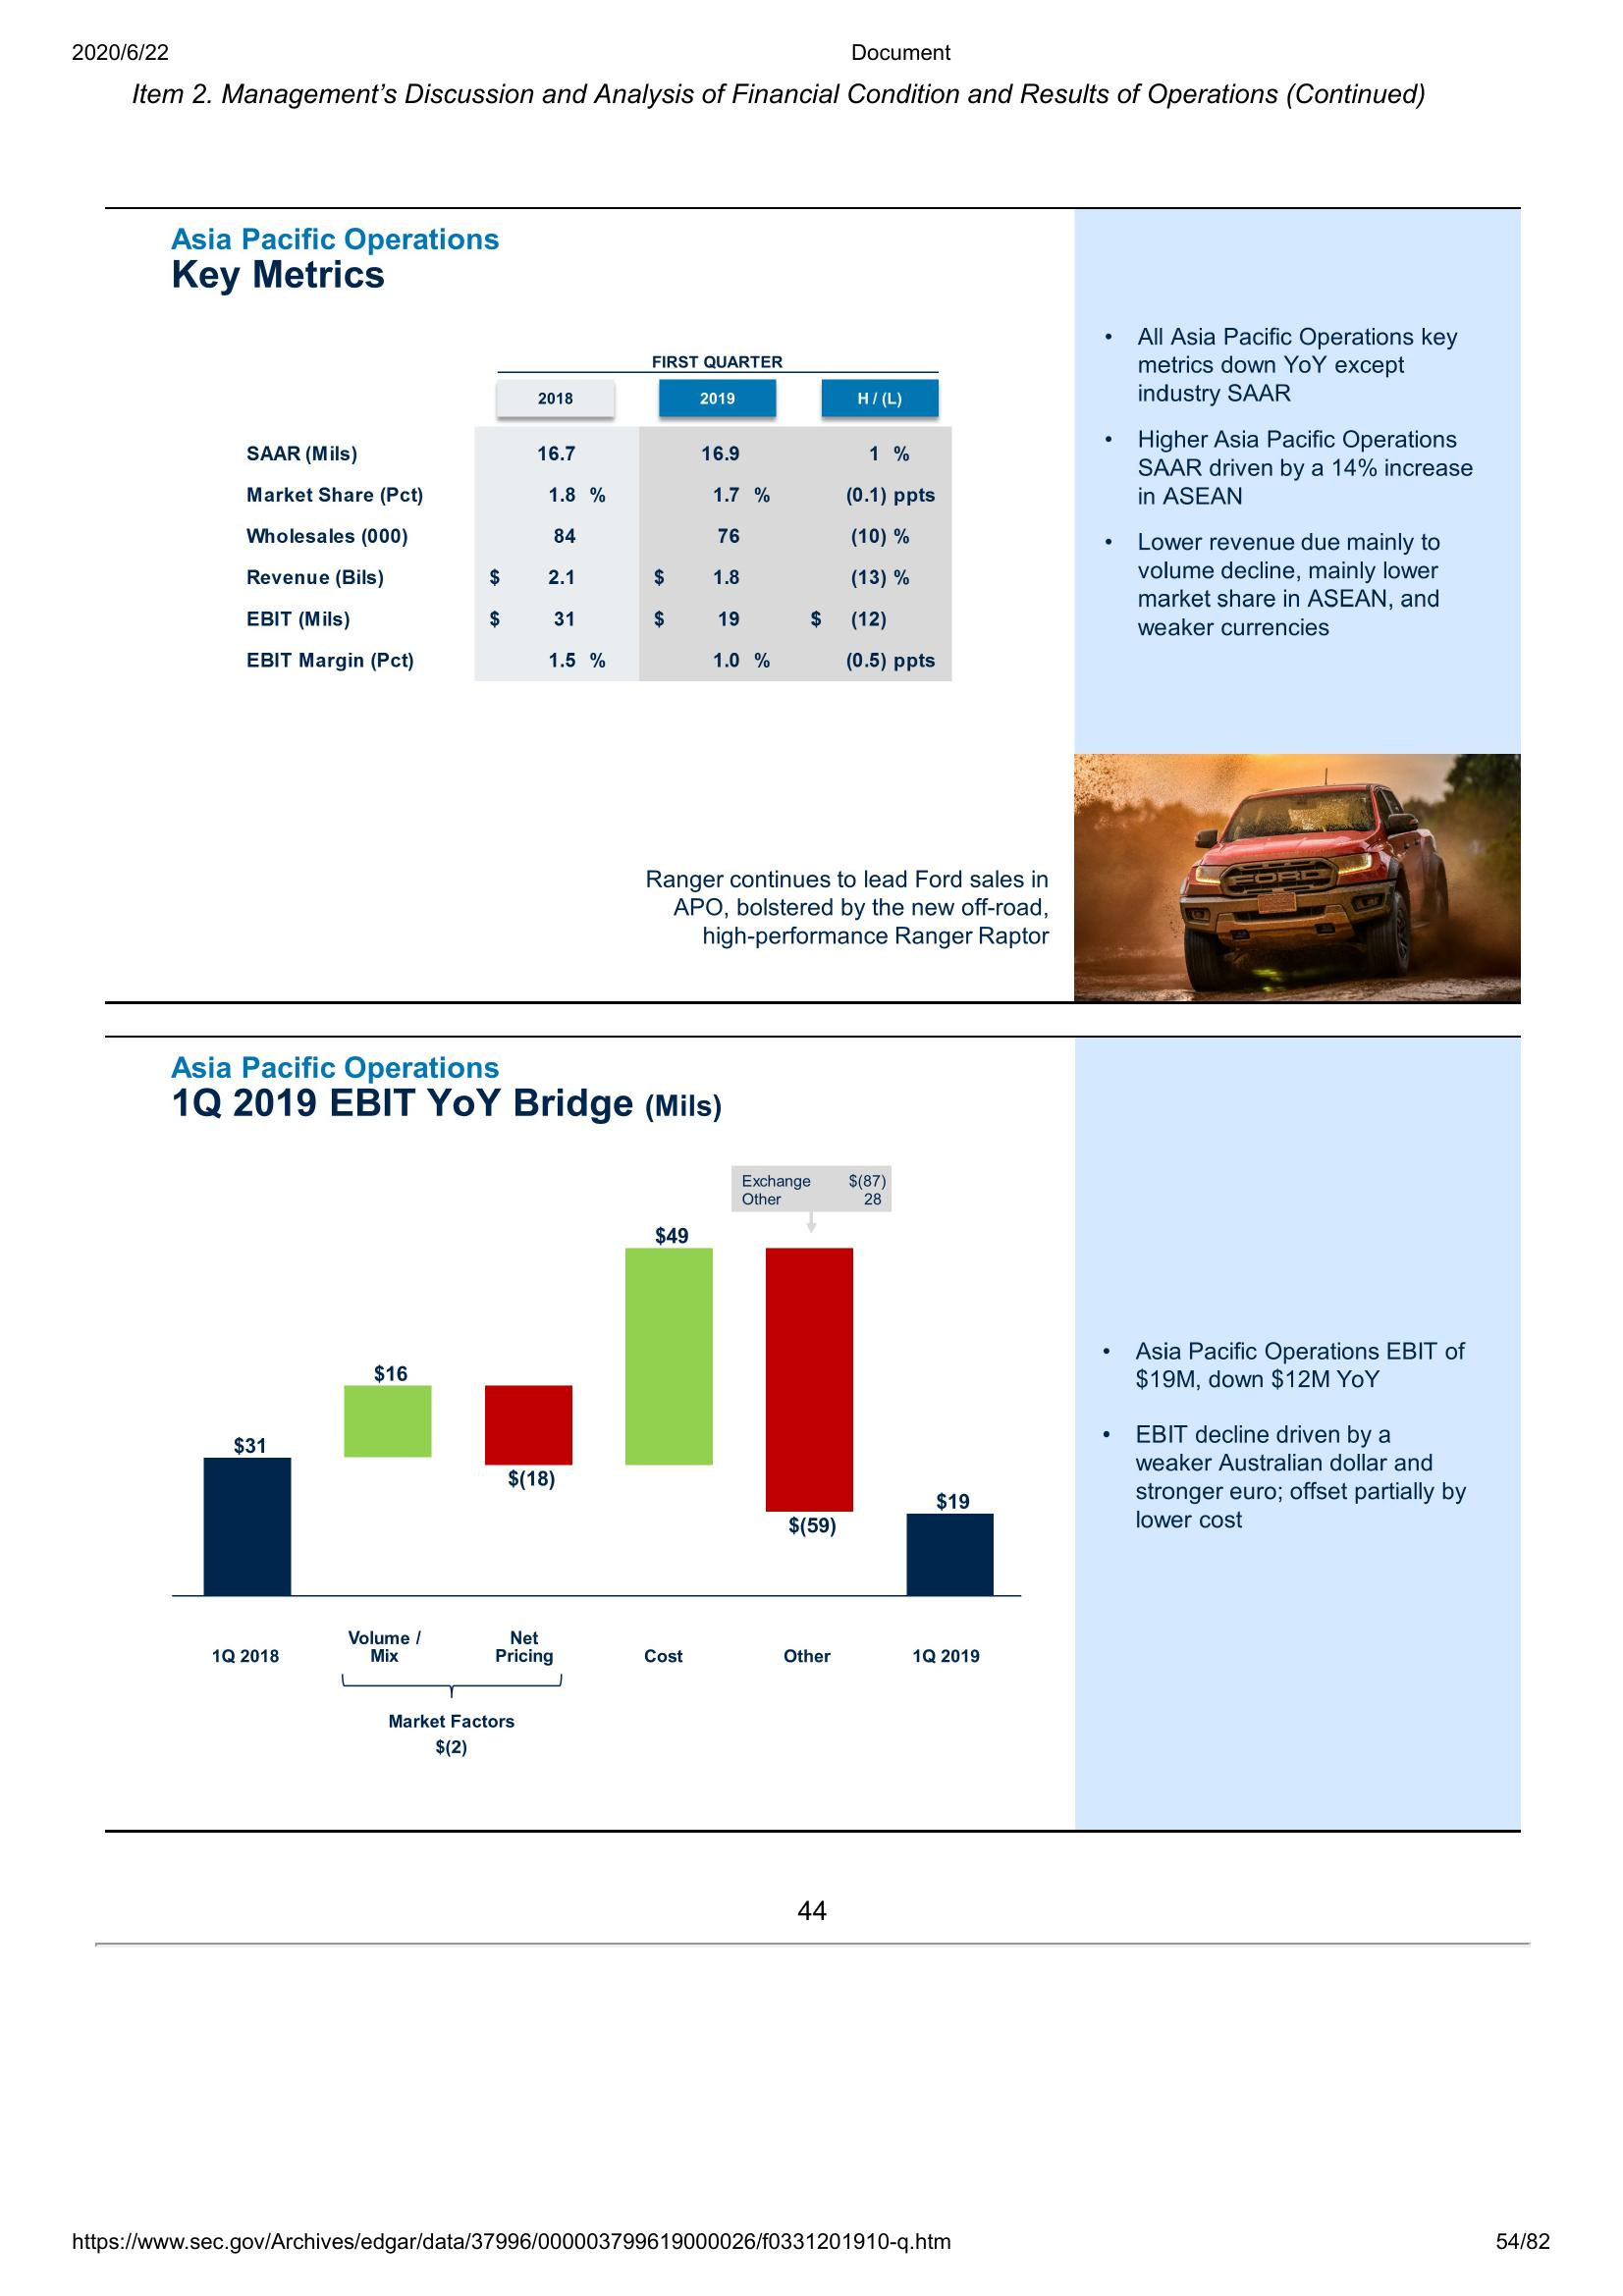table: (232, 341, 956, 681)
